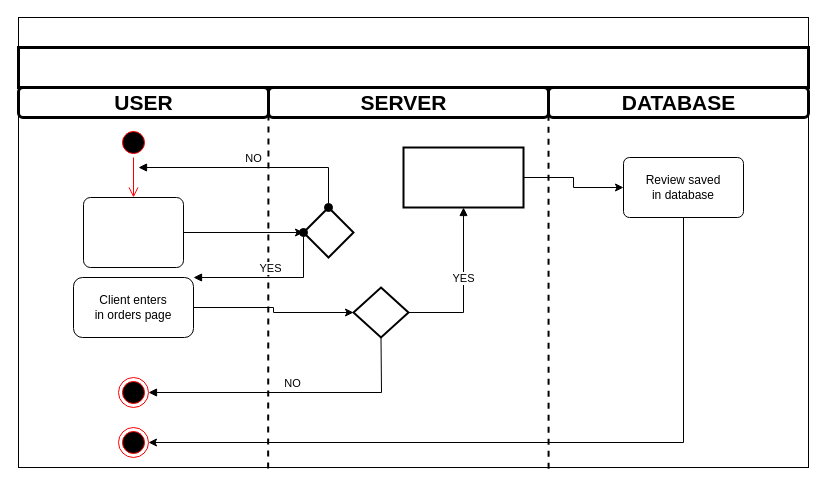
Some shapes in this 827 by 488 pixel diagram are drawn without their labels. Here are the shapes that lost their labels. From the top down, the centre of each, then its label:
the point at 413,67: CLIENT ADDING PRODUCT REVIEWS
the point at 463,177: Leaves a comment
the point at 133,232: Client logs in using credentials
